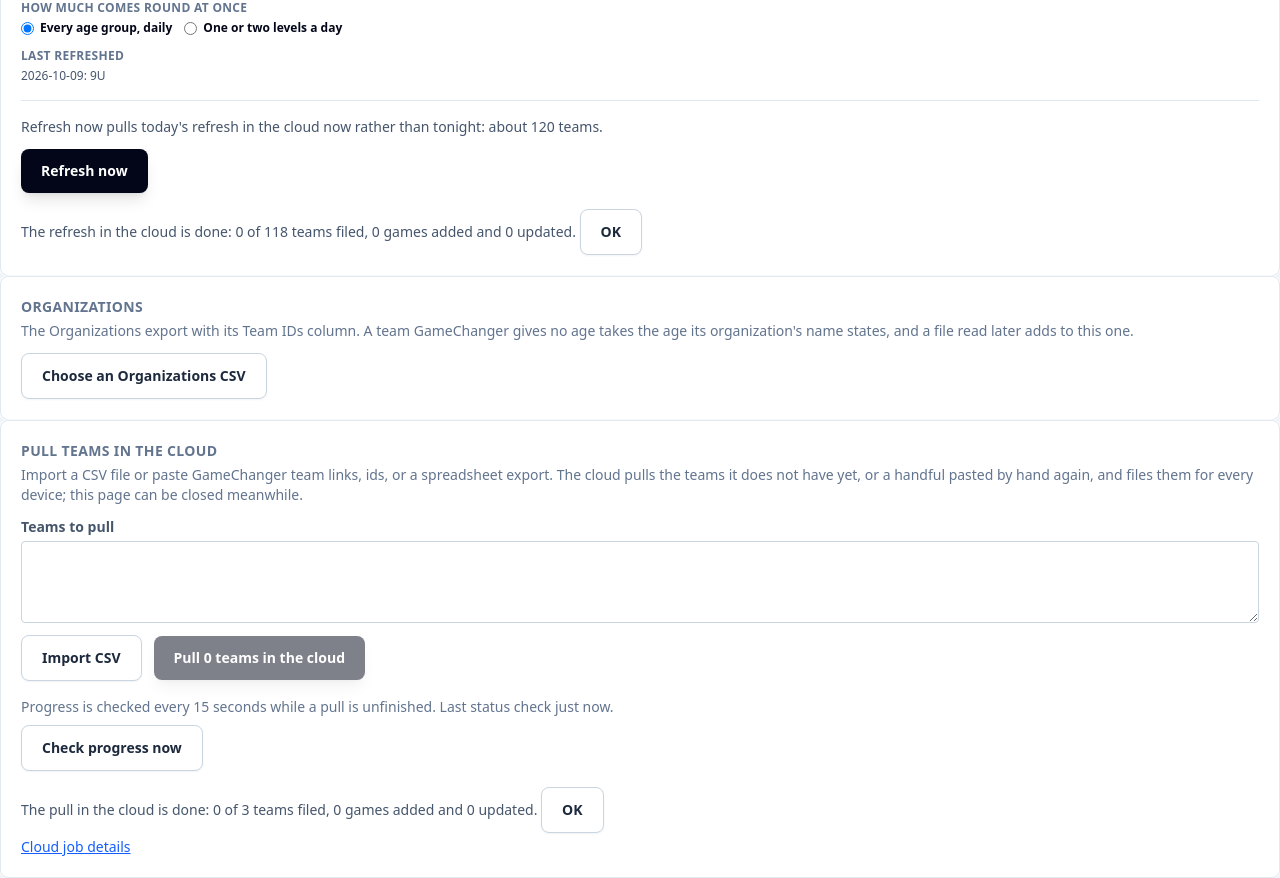
it: Refresh now on the Import tab › reads the status again once for a refresh's end, however often the list is read after
(page scrolled)
Check: the text "The refresh in the cloud is done" is shown, box top-left (21, 222), bottom-right (576, 241)
The list's line told: the watched list is new, the refresh's end in it is not.
Step 1. Click the button "OK" below "Last status check just now." → x=572, y=810, box top-left (541, 787), bottom-right (604, 833)
(page scrolled)
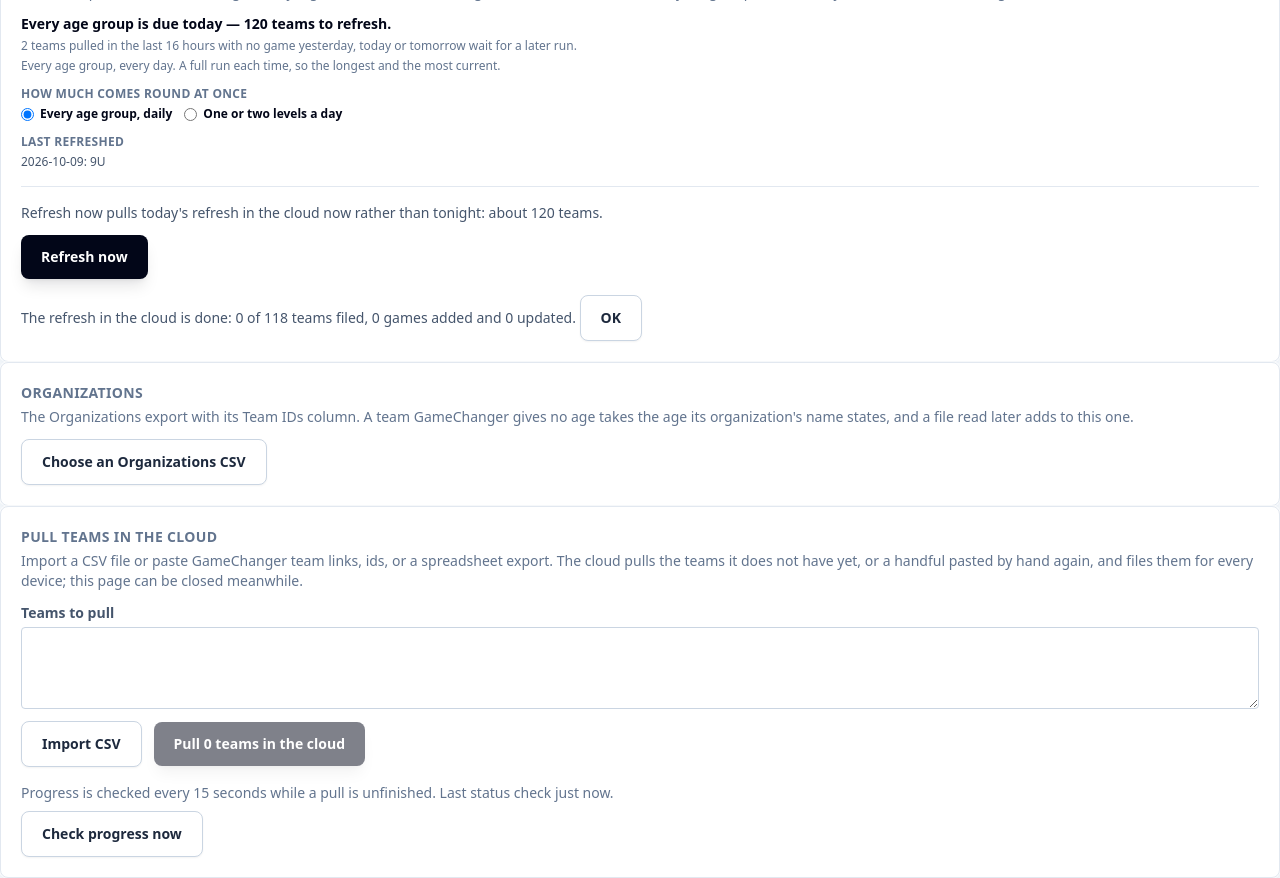
Check: the text "The pull in the cloud is done" is gone
